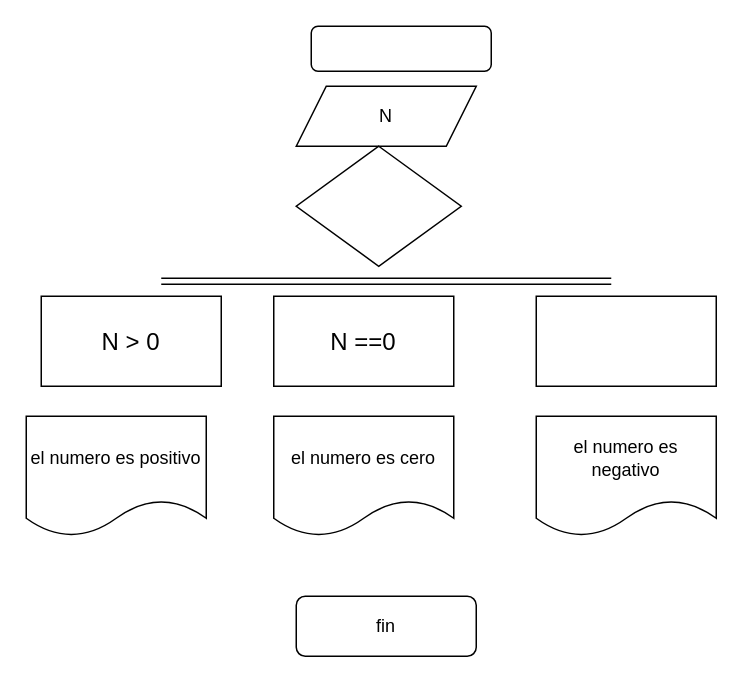
Image size: 743x683. Some labels were removed from this diagram. The shapes that lost their labels are listed below. From the top down, each one's centre as x and y in pixels, then its label:
point (400, 48): inicio
point (378, 205): if
point (625, 340): N < 0
